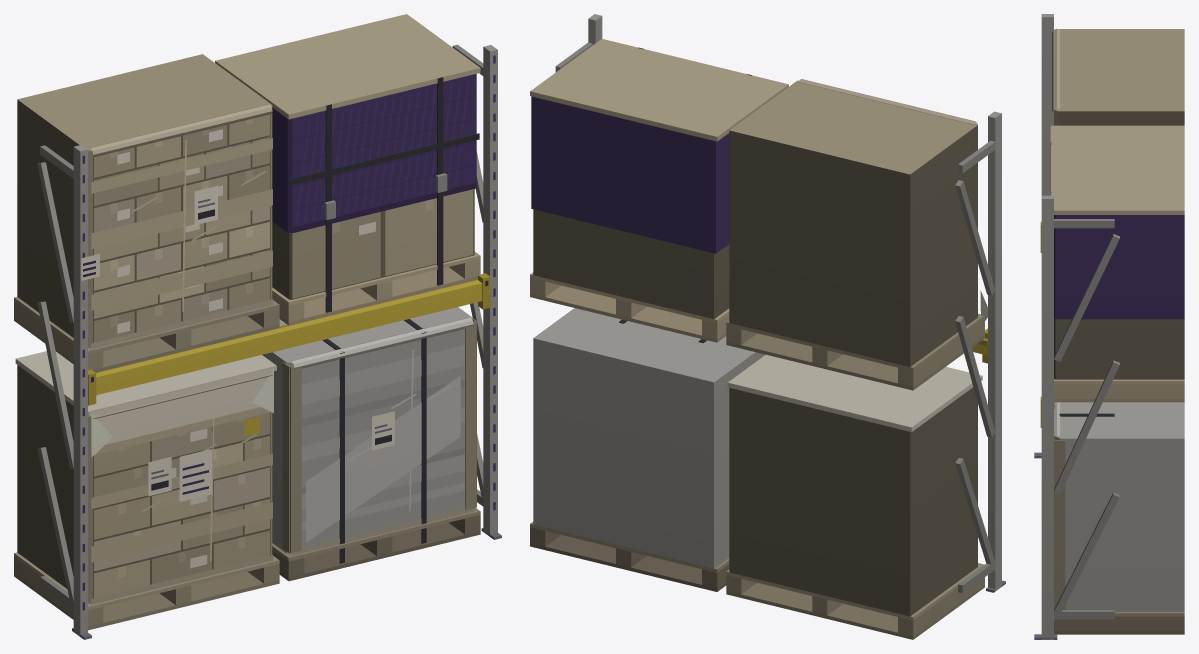
Rendered from wrapped_racking_c.glb.
The picture shows the model from 3 angles, left to right: view 1: azimuth 30°, elevation 25°; view 2: azimuth 150°, elevation 25°; view 3: azimuth 270°, elevation 25°; orthographic projection. The views are drawn at different scales.
Visible parts, largest first — view 1: wrapped_racking; view 2: wrapped_racking; view 3: wrapped_racking.
Part boxes in pixels (<box>): wrapped_racking: <box>14,14,501,639</box>; wrapped_racking: <box>530,14,1005,639</box>; wrapped_racking: <box>1034,14,1184,639</box>.
Bounding box in the file's own units: 2.7 × 3 × 0.925.
